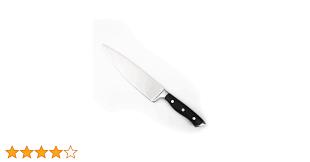Knife: (101, 42, 206, 127)
